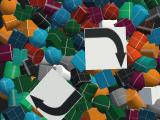Right: (25, 68, 83, 120), (84, 27, 127, 70)
